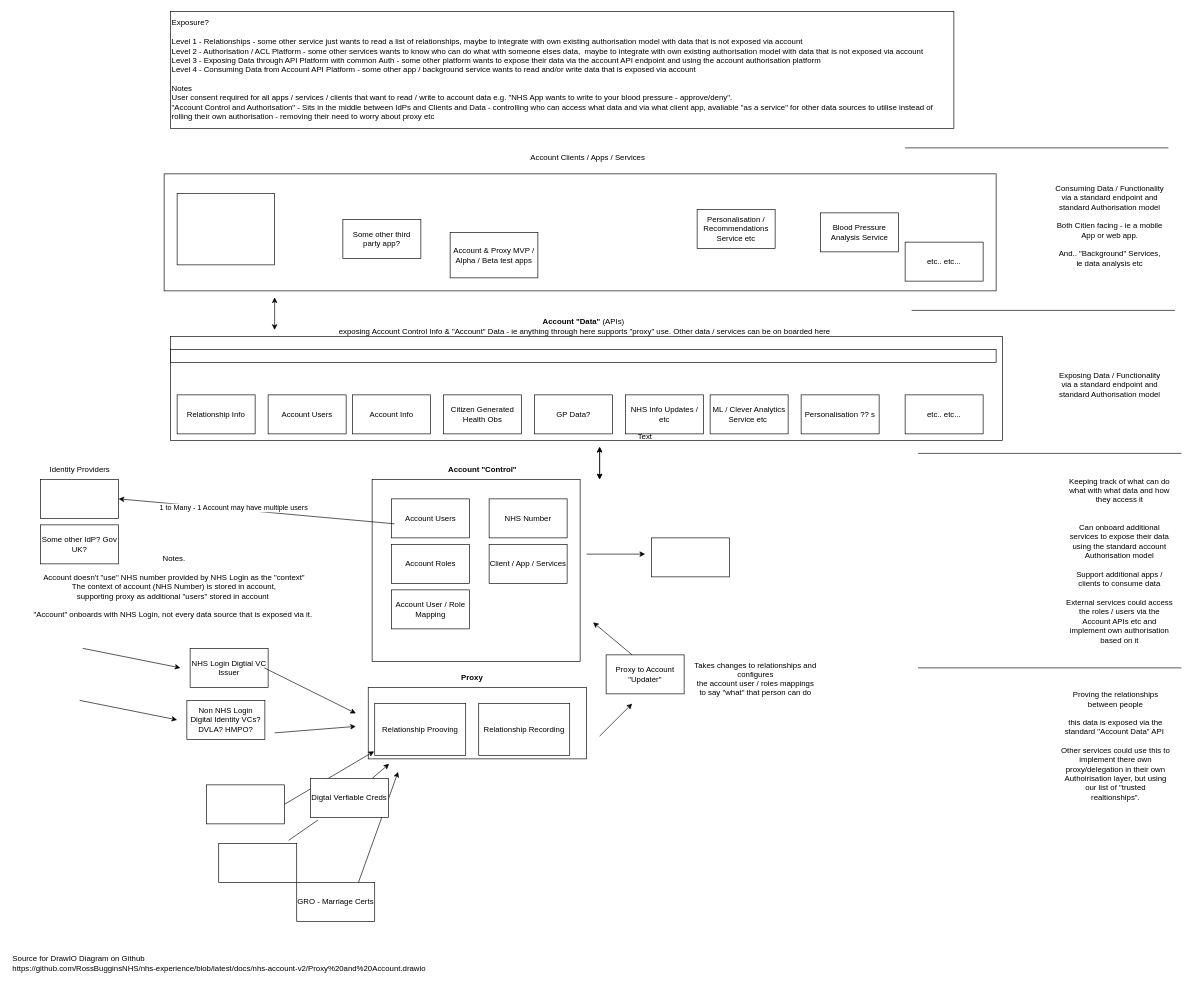
The diagram is 1193 pixels wide and 985 high, and some of its shapes have lost their labels. The shapes that lost their labels are listed below. From the top down, each one's centre as x and y in pixels, then its label:
the point at 225,229: NHS App
the point at 583,355: Authorisation - Access Enforcement
the point at 79,498: NHS Login
the point at 690,557: NHS Account - Digital Verifiable Creds Issuer
the point at 245,804: MoJ - Power of A
the point at 257,862: GRO - Birth Certs
